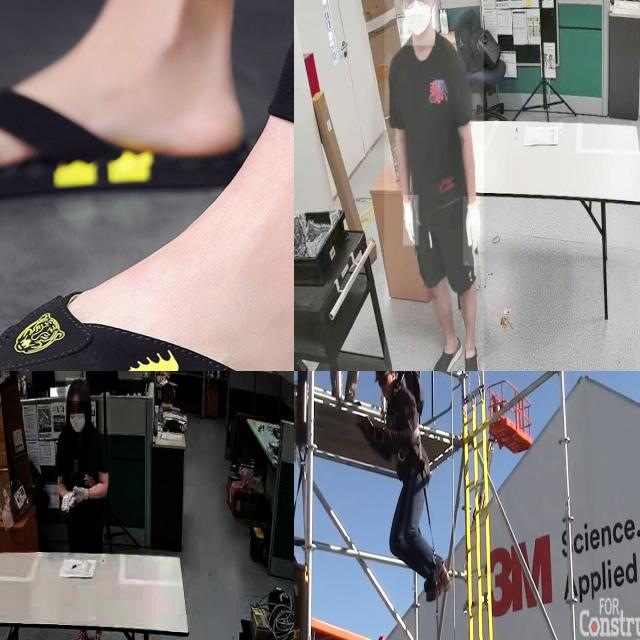Harness: (382, 371, 432, 490)
Sandals: (0, 187, 294, 371)
face_mask: (402, 0, 435, 45), (66, 404, 90, 442)
glasses: (402, 0, 429, 10)
hand_glove: (463, 196, 481, 266), (403, 195, 419, 246), (74, 482, 90, 510), (61, 490, 73, 522)
head_nohelmet: (66, 378, 90, 402)
person: (384, 0, 484, 371), (50, 380, 111, 550)
shoes: (430, 327, 464, 371), (459, 332, 478, 371), (70, 623, 87, 640), (92, 625, 109, 640)
